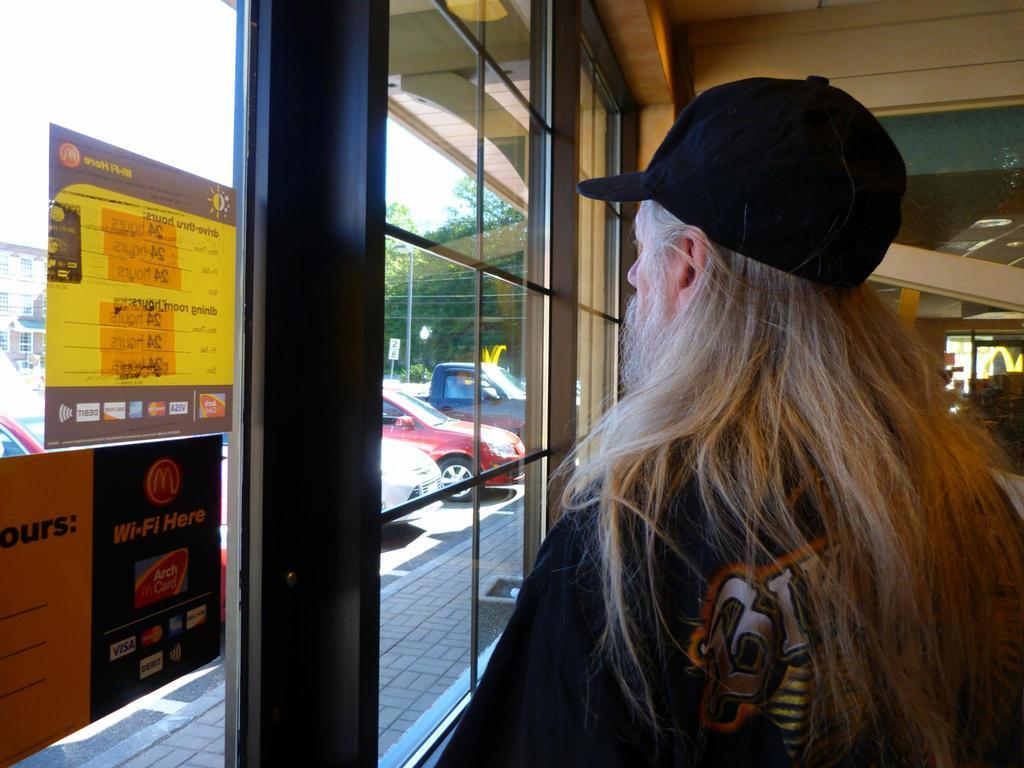Hat: (571, 70, 907, 288)
